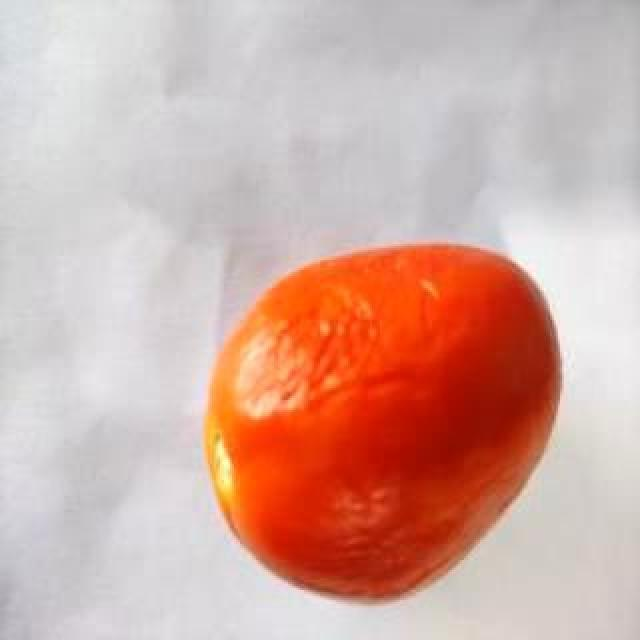Rotten_Tomato: (194, 232, 572, 616)
